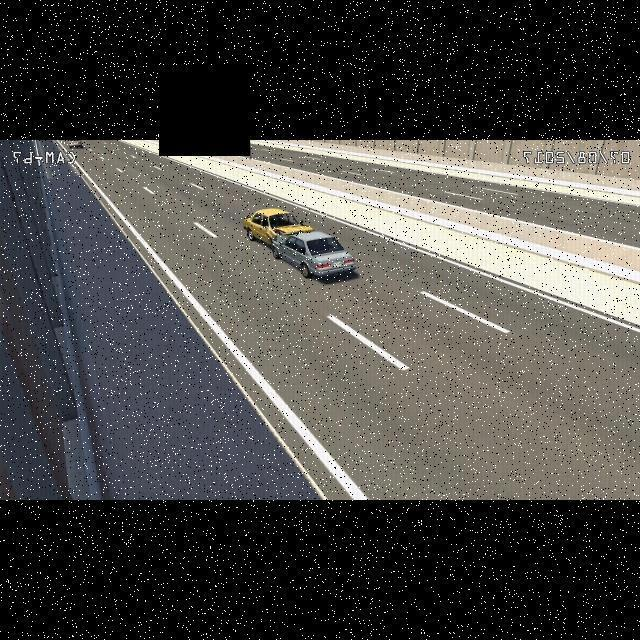multiple_accident: (223, 172, 393, 320)
